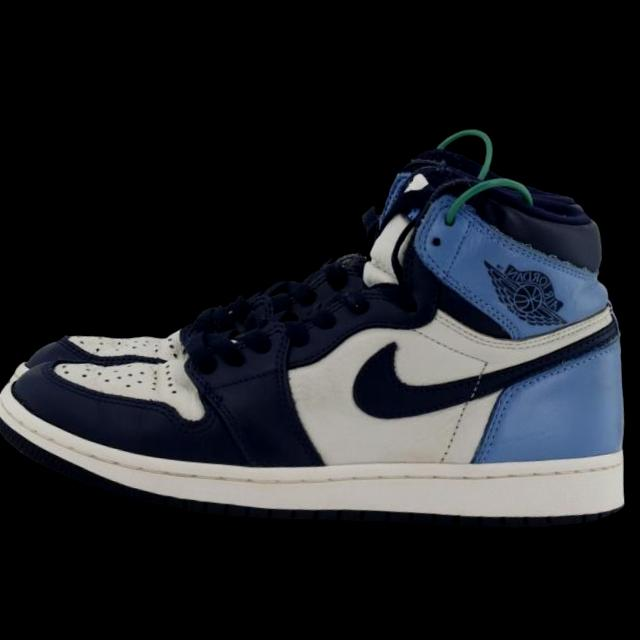nike_original_jordan: (0, 123, 640, 548), (0, 114, 610, 429)
